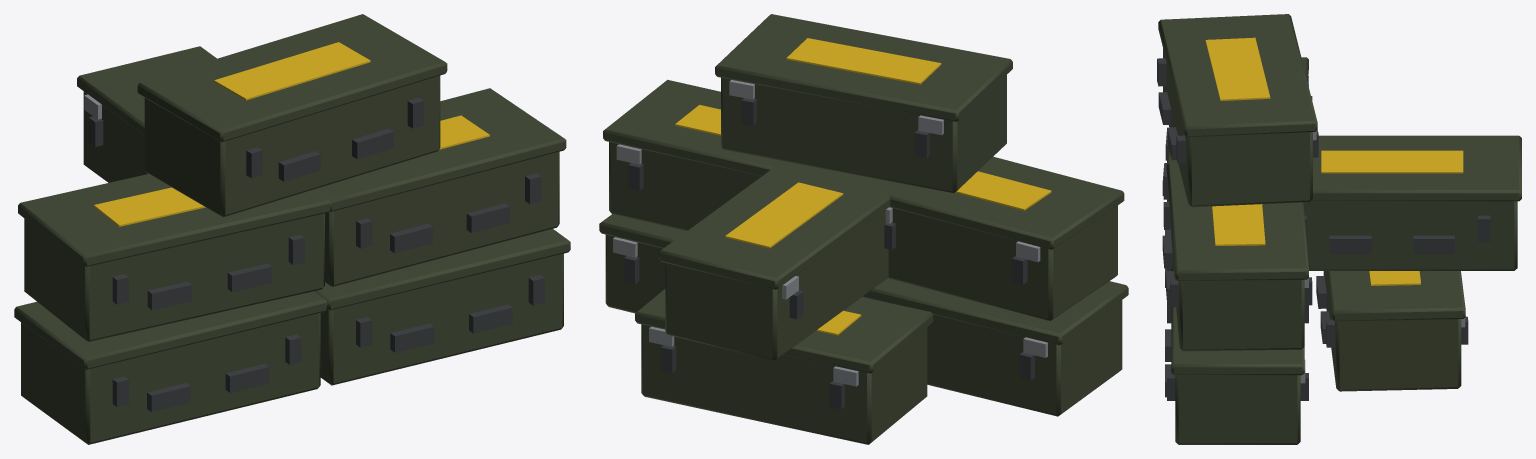
Rendered from SM_Cajas_Municion_Pila.fbx.
3 renders of one model, left to right at view 1: azimuth 30°, elevation 25°; view 2: azimuth 150°, elevation 25°; view 3: azimuth 270°, elevation 25°, orthographic. The views are drawn at different scales.
Visible parts, largest first — view 1: SM_Cajas_Municion_Pila; view 2: SM_Cajas_Municion_Pila; view 3: SM_Cajas_Municion_Pila.
Part boxes in pixels (x1,y1,x2,y2): SM_Cajas_Municion_Pila: (14,14,570,444); SM_Cajas_Municion_Pila: (599,14,1128,444); SM_Cajas_Municion_Pila: (1157,14,1521,444).
Size of what is drawn, in the model's own units: 1.24 by 0.8736 by 0.714.
